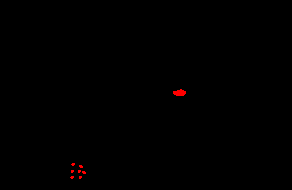Target: (173, 89, 186, 96), (71, 163, 75, 166), (79, 165, 83, 168), (82, 171, 86, 174), (70, 176, 74, 179), (71, 170, 74, 173), (78, 170, 81, 173), (79, 176, 82, 179)
